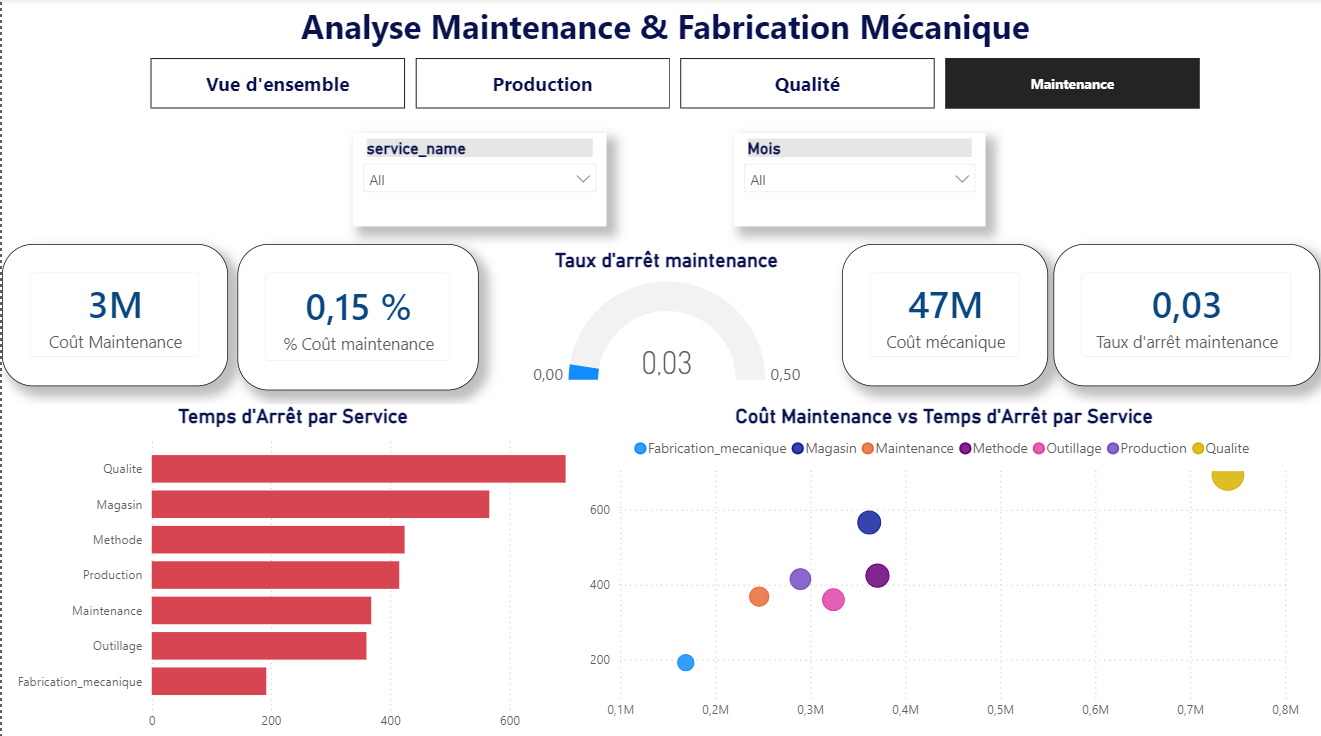

This screenshot's page, from the dashboard's own definition file:
{"tool":"powerbi","page":{"name":"Maintenance","canvas":[1280,720],"ordinal":3},"visuals":[{"type":"textbox","box":[9.4,0,1269.9,69.9],"z":0},{"type":"slicer","fields":{"Values":["dim_service.service_name"]},"box":[340.2,130.4,245.7,90.7],"z":1000},{"type":"slicer","fields":{"Values":["Dim_date.Mois"]},"box":[710.6,130.4,243.8,90.7],"z":2000},{"type":"cardVisual","fields":{"Data":["INDICATEURS MAINTENANCE.Coût Maintenance"]},"box":[0,238.1,219.2,138],"z":3000},{"type":"cardVisual","fields":{"Data":["INDICATEURS FABRICATION MÉCANIQUE.Coût mécanique"]},"box":[814.5,238.1,200.3,138],"z":4000},{"type":"cardVisual","fields":{"Data":["INDICATEURS MAINTENANCE.Taux d'arrêt maintenance"]},"box":[1020.5,238.1,258.9,138],"z":5000},{"type":"cardVisual","fields":{"Data":["INDICATEURS MAINTENANCE.% Coût maintenance"]},"box":[228.7,238.1,234.3,141.7],"z":6000},{"type":"gauge","title":"Taux d''arrêt maintenance ","fields":{"MaxValue":["INDICATEURS MAINTENANCE.MAXMAN"],"Y":["INDICATEURS MAINTENANCE.Taux d'arrêt maintenance"]},"box":[504.6,243.8,279.7,141.7],"z":7000},{"type":"scatterChart","title":"Coût Maintenance vs Temps d''Arrêt par Service","fields":{"Series":["dim_service.service_name"],"Size":["INDICATEURS MAINTENANCE.Coût Maintenance"],"X":["INDICATEURS MAINTENANCE.Coût Maintenance"],"Y":["INDICATEURS MAINTENANCE.Temps d'arrêt total"]},"box":[565,395,699.2,313.7],"z":8000},{"type":"clusteredBarChart","title":"Temps d''Arrêt par Service","fields":{"Category":["dim_service.service_name"],"Y":["INDICATEURS MAINTENANCE.Temps d'arrêt total"]},"box":[0,395,565,325],"z":9000},{"type":"pageNavigator","box":[143.6,58.6,1020.5,49.1],"z":10000}]}

Visuals, with their boxes in screenshot pixels (x1, y1, x2, y2), scaled from the page's 1280x720 canvas onto the 1321x736 screenshot:
textbox: [10,0,1320,71]
slicer - dim_service.service_name: [351,133,605,226]
slicer - Dim_date.Mois: [733,133,985,226]
cardVisual - INDICATEURS MAINTENANCE.Coût Maintenance: [0,243,226,384]
cardVisual - INDICATEURS FABRICATION MÉCANIQUE.Coût mécanique: [841,243,1047,384]
cardVisual - INDICATEURS MAINTENANCE.Taux d'arrêt maintenance: [1053,243,1320,384]
cardVisual - INDICATEURS MAINTENANCE.% Coût maintenance: [236,243,478,388]
"Taux d''arrêt maintenance " gauge: [521,249,809,394]
"Coût Maintenance vs Temps d''Arrêt par Service" scatterChart: [583,404,1305,724]
"Temps d''Arrêt par Service" clusteredBarChart: [0,404,583,735]
pageNavigator: [148,60,1201,110]
